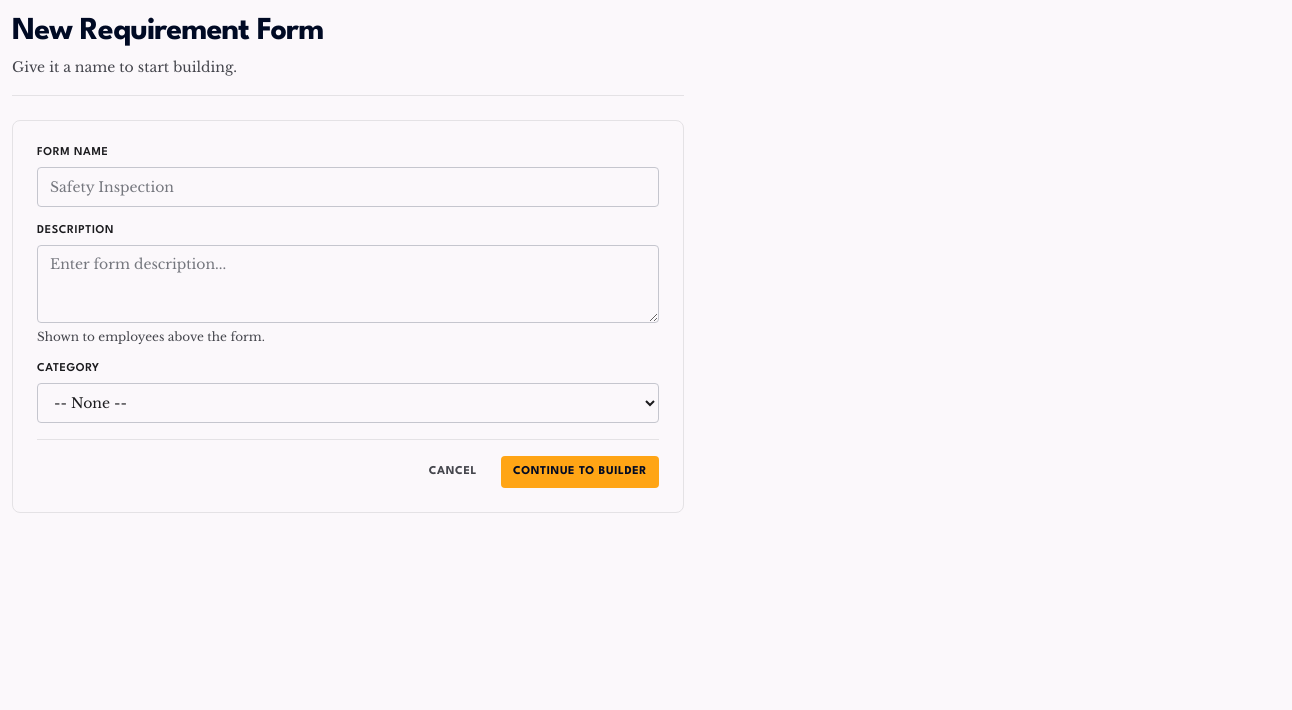
Test: FormBuilderPage › creating a new form (no id) posts name/description/category and navigates to the builder
Type "Vehicle Check" into the field labelled "Form Name" at (348, 187), box [37,167,659,207]
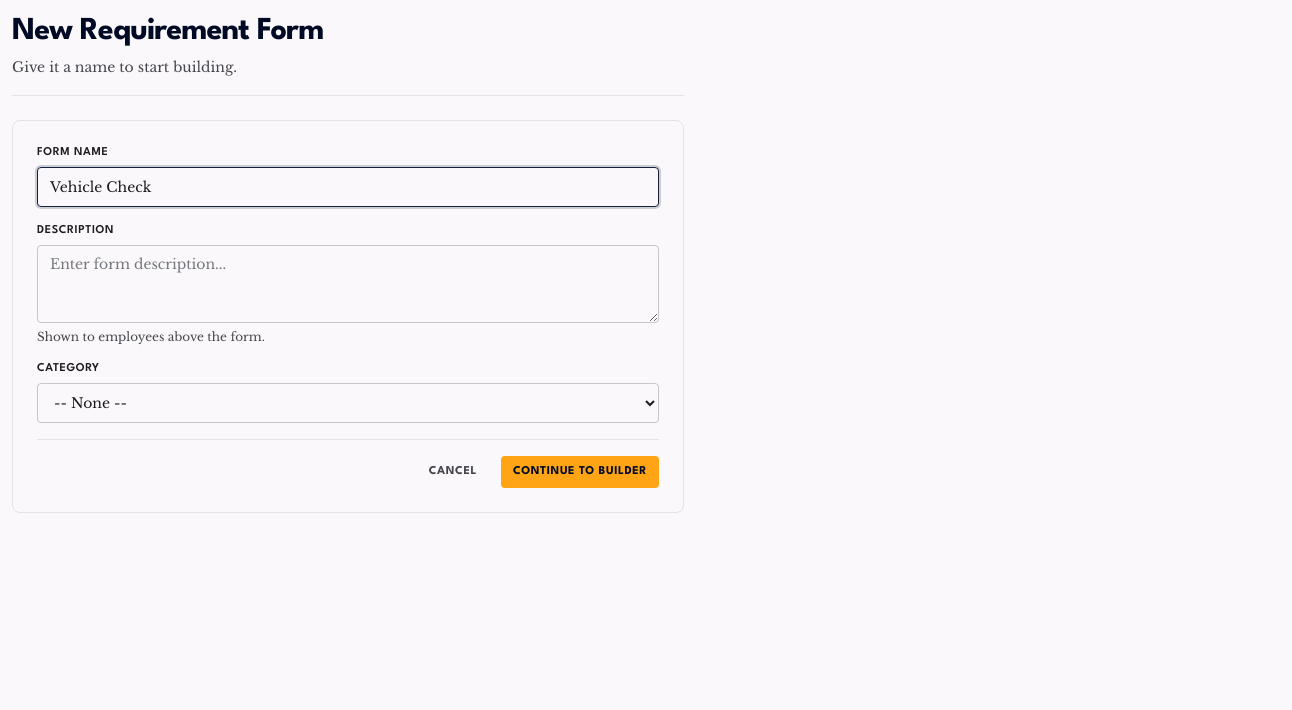
Click the button "Continue to Builder" at (580, 472), box [501,456,659,488]
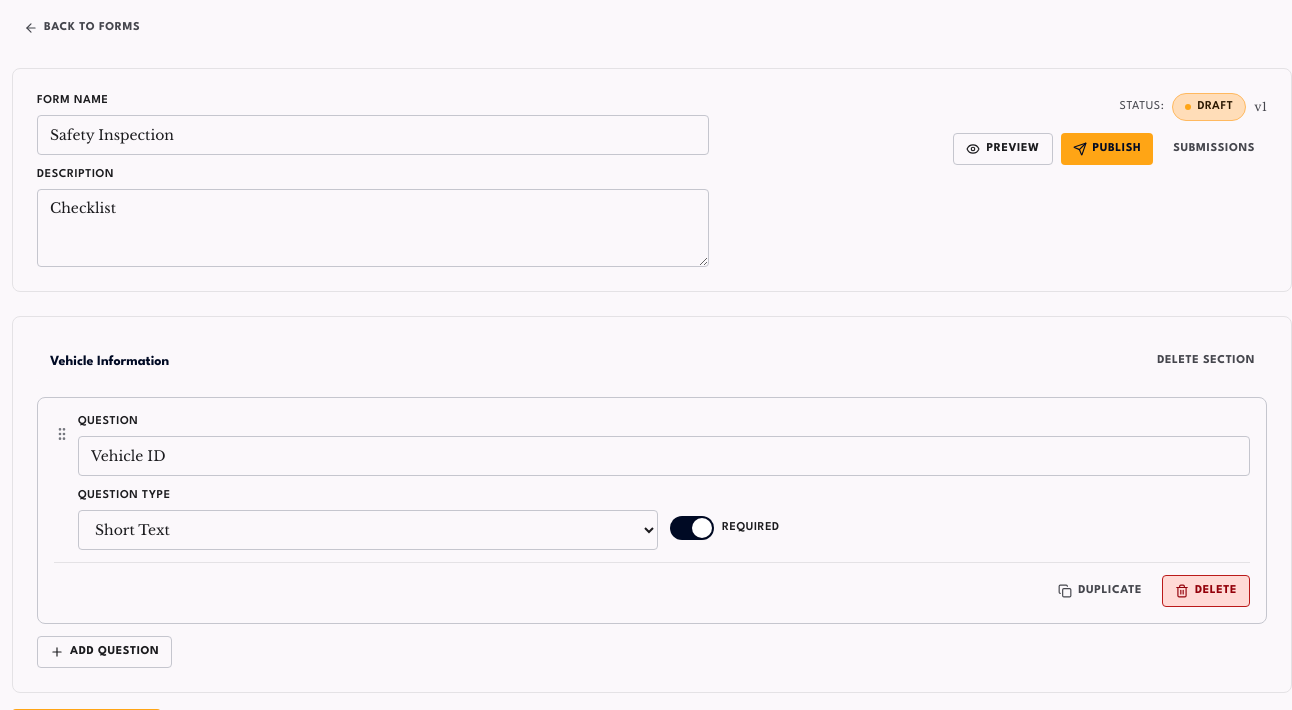
Now the field showing "Vehicle Information" is shown, box [37,341,1129,381]
